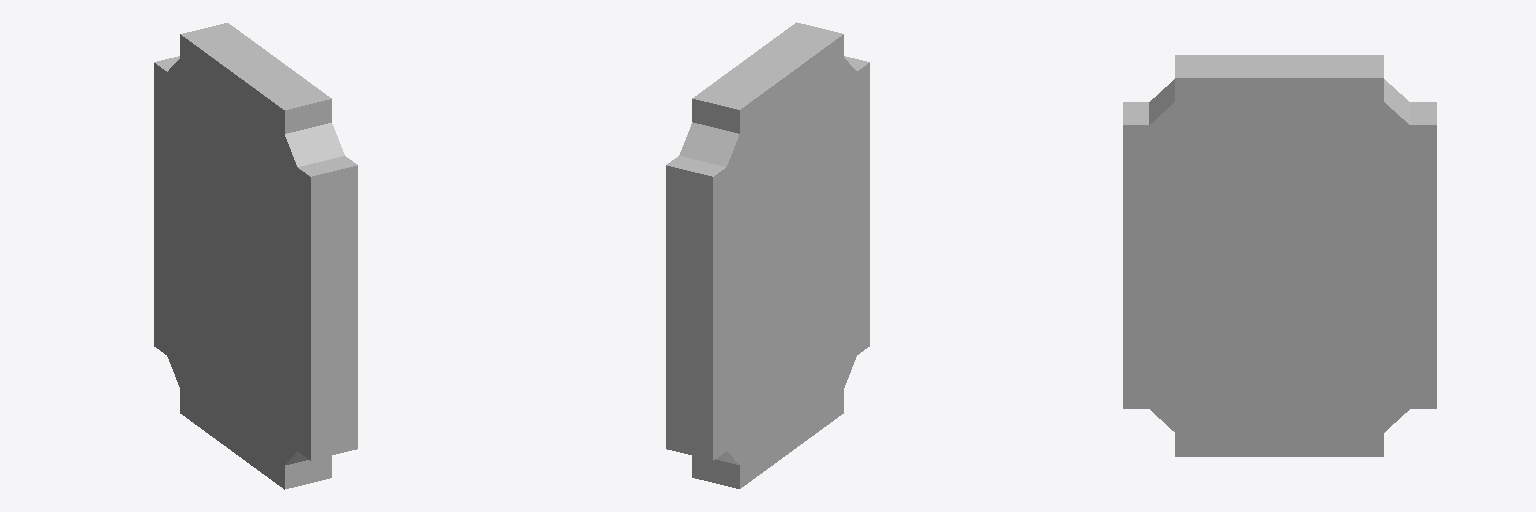
The model's file is shipwindow.obj.
3 renders of one model, left to right at view 1: azimuth 30°, elevation 25°; view 2: azimuth 150°, elevation 25°; view 3: azimuth 270°, elevation 25°, orthographic.
Visible parts, largest first — view 1: obj.shipWindow.000_TempShip; view 2: obj.shipWindow.000_TempShip; view 3: obj.shipWindow.000_TempShip.
Boxes of the visible parts, <box> form: obj.shipWindow.000_TempShip: <box>154,23,357,489</box>; obj.shipWindow.000_TempShip: <box>666,22,869,488</box>; obj.shipWindow.000_TempShip: <box>1123,55,1436,456</box>.
Bounding box in the file's own units: 0.1262 × 0.9623 × 0.7202.